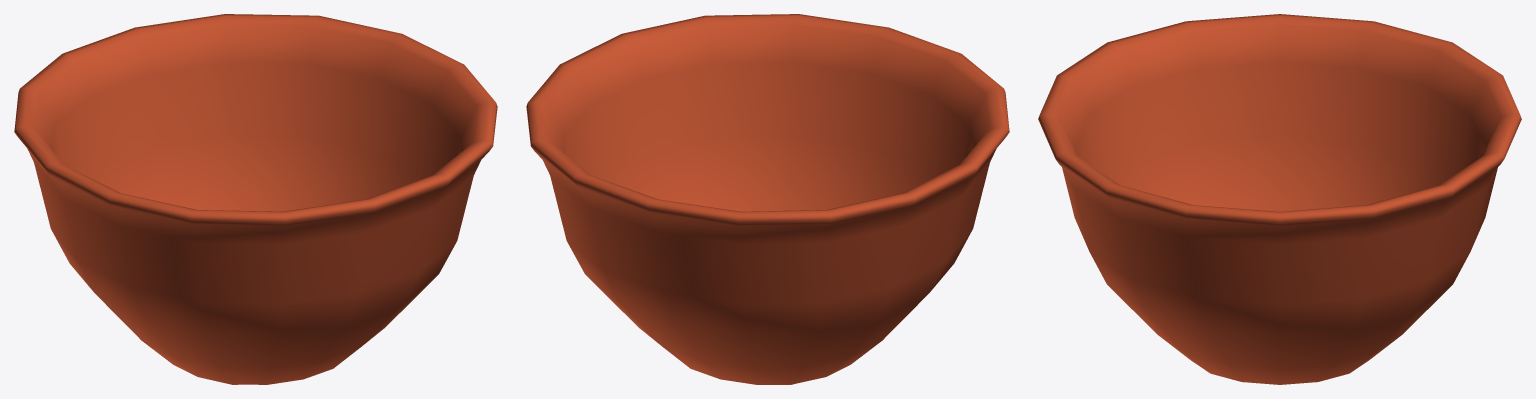
Rendered from SmallBowl.fbx.
3 views of the same model, side by side, from view 1: azimuth 30°, elevation 25°; view 2: azimuth 150°, elevation 25°; view 3: azimuth 270°, elevation 25° (orthographic).
Parts seen in each view (by area): view 1: SmallBowl; view 2: SmallBowl; view 3: SmallBowl.
Part boxes in pixels (<box>): SmallBowl: <box>14,14,497,384</box>; SmallBowl: <box>526,14,1009,384</box>; SmallBowl: <box>1038,14,1521,384</box>.
Bounding box in the file's own units: 20.32 × 10.98 × 20.32.
